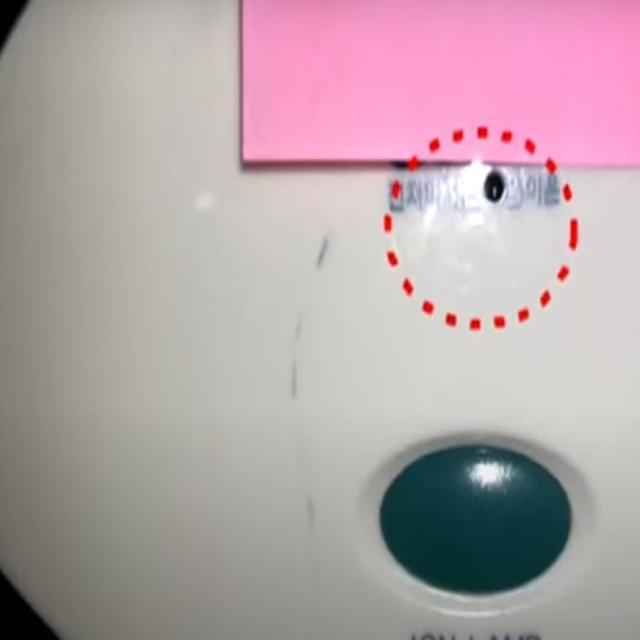hidden camera: (473, 144, 518, 219)
